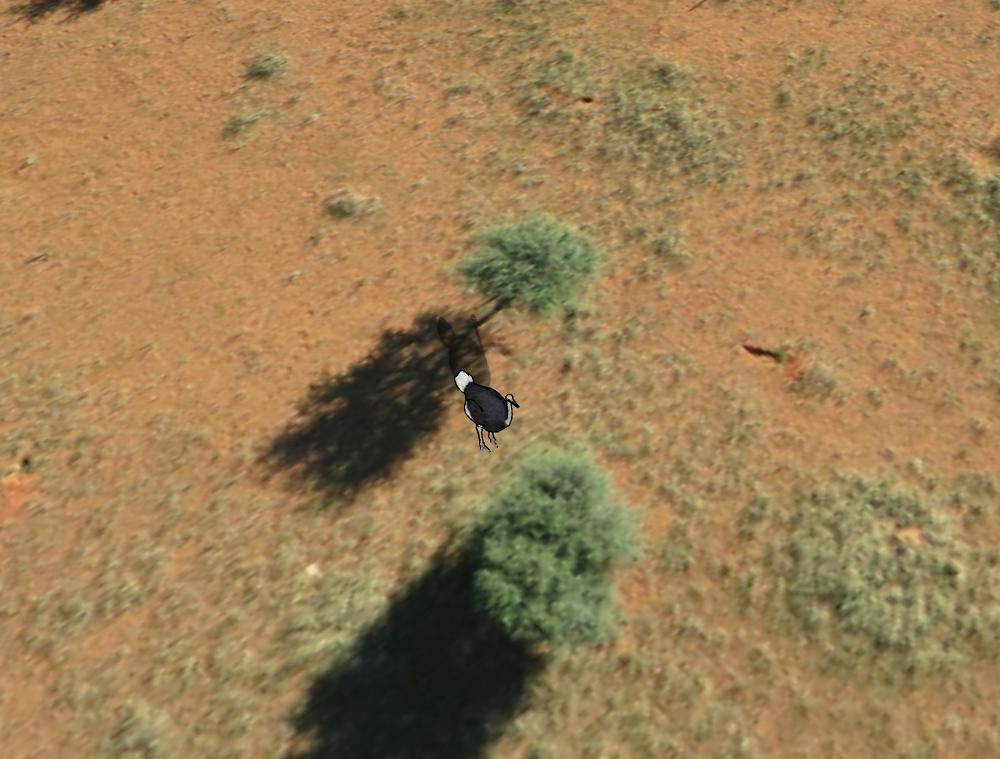ostrich: (455, 369, 522, 454)
